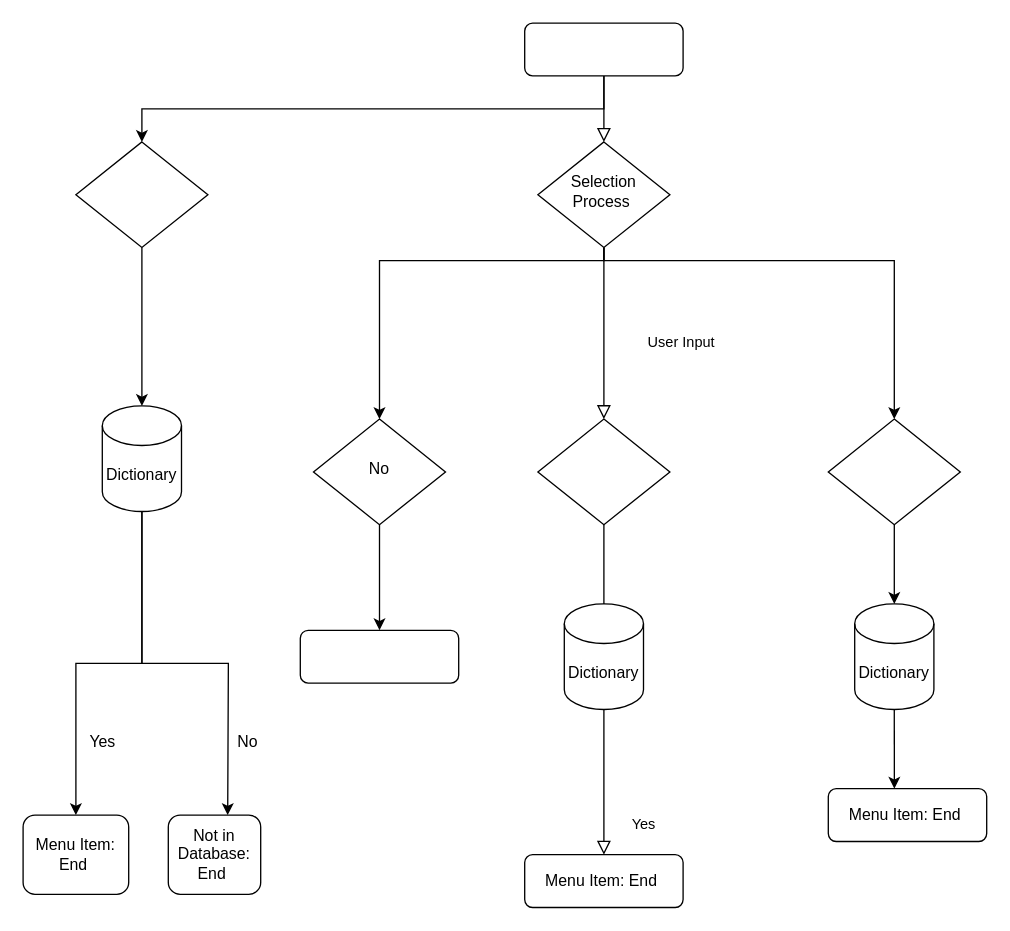
This 1010x931 diagram has some shape labels left out. The shapes that lost their labels are listed below. From the top down, each one's box as (x1, y1, x2, y2) in pixels, then its label:
(523, 22, 683, 76): Start
(75, 141, 208, 248): Quick Search
(537, 418, 670, 525): User Selections
(827, 418, 960, 525): Random Generator
(299, 629, 459, 683): End
